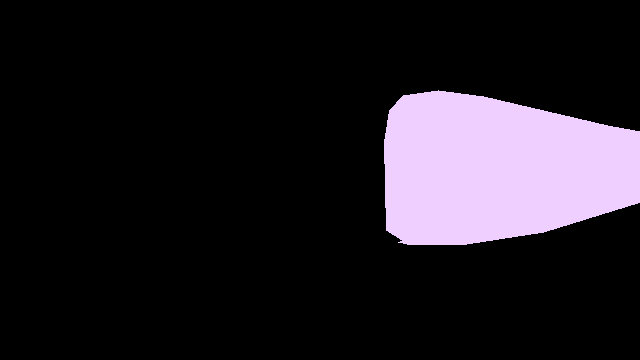Train: (384, 90, 640, 244)
